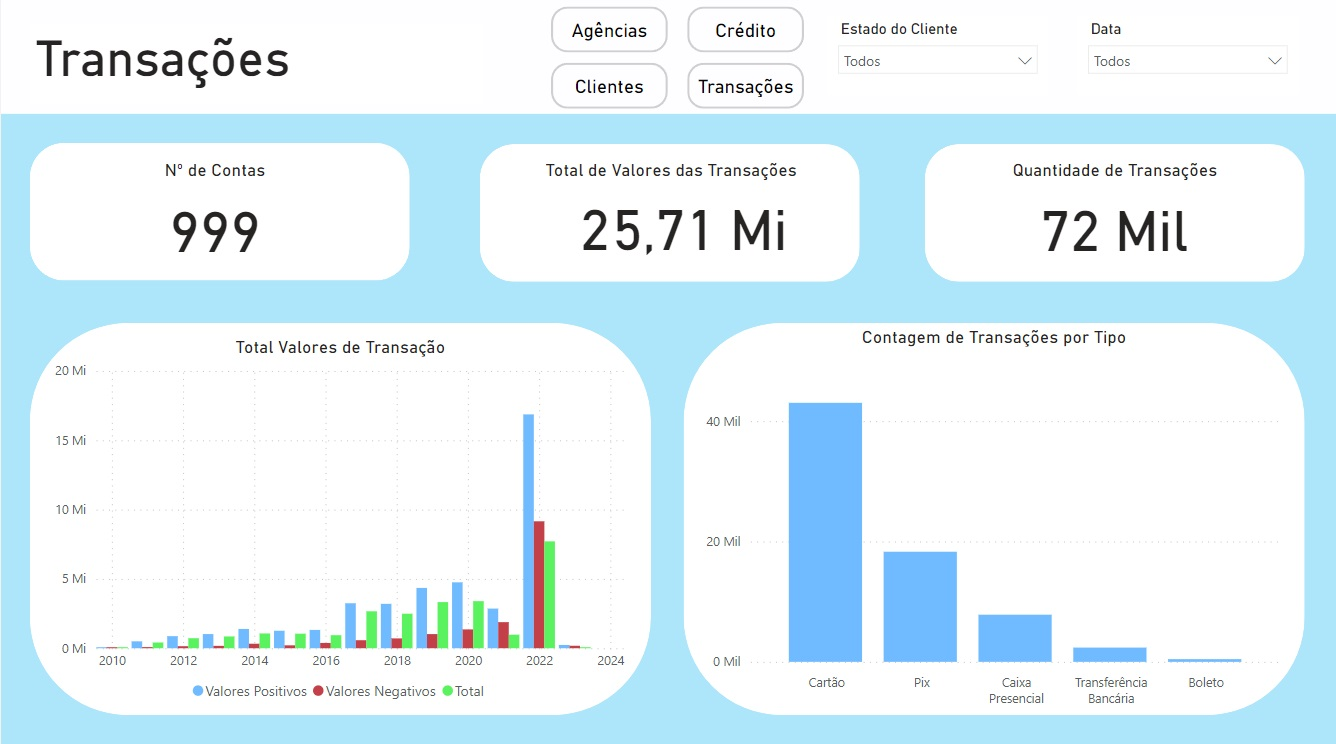

This screenshot's page, from the dashboard's own definition file:
{"tool":"powerbi","page":{"name":"Transações","canvas":[1280,720],"ordinal":2},"visuals":[{"type":"shape","box":[653.9,315,595.2,376],"z":0},{"type":"shape","box":[27.5,315,595.2,376],"z":1000},{"type":"shape","box":[885.4,144,364.2,132.1],"z":2000},{"type":"shape","box":[458.2,144,364.2,132.1],"z":3000},{"type":"shape","box":[27.4,142.8,364.2,132.1],"z":4000},{"type":"clusteredColumnChart","title":"Contagem de Transações por Tipo","fields":{"Category":["transacoes.tipo_transacao"],"Y":["transacoes_medidas.Contagem de Transasoes por tipo"]},"box":[670,318.9,561.7,372.5],"z":5000},{"type":"slicer","fields":{"Values":["transacoes.data_transacao.Variation.Hierarquia de datas.Ano","transacoes.data_transacao.Variation.Hierarquia de datas.Mês"]},"box":[1030.6,20.2,211.8,76.2],"z":6000},{"type":"clusteredColumnChart","title":"Total Valores de Transação","fields":{"Y":["transacoes_medidas.Total de valores positivos","transacoes_medidas.Total de valores negativos","transacoes_medidas.Total de valores"],"Category":["transacoes.data_transacao.Variation.Hierarquia de datas.Ano","transacoes.data_transacao.Variation.Hierarquia de datas.Trimestre","transacoes.data_transacao.Variation.Hierarquia de datas.Mês"]},"box":[46.4,328.5,557,358.2],"z":7000},{"type":"slicer","fields":{"Values":["clientes.uf"]},"box":[791.4,20.2,211.8,76.2],"z":8000},{"type":"card","fields":{"Values":["transacoes_medidas.Total"]},"box":[486.7,197.6,333.2,65.5],"z":9000},{"type":"card","fields":{"Values":["transacoes_medidas.Contagem de Transasoes por tipo"]},"box":[885.4,198.7,363,65.5],"z":10000},{"type":"textbox","box":[486.7,153.5,309.4,35.7],"z":11000},{"type":"textbox","box":[54.7,153.5,299.9,35.7],"z":12000},{"type":"textbox","box":[917.6,153.5,299.9,35.7],"z":13000},{"type":"card","fields":{"Values":["transacoes_medidas.Total de Contas"]},"box":[54.7,201.1,299.9,61.9],"z":14000},{"type":"textbox","box":[46.4,11.9,384.4,84.5],"z":15000}]}

Visuals, with their boxes in screenshot pixels (x1, y1, x2, y2), scaled from the page's 1280x720 canvas onto the 1336x744 screenshot:
shape: bbox(683, 326, 1304, 714)
shape: bbox(29, 326, 650, 714)
shape: bbox(924, 149, 1304, 285)
shape: bbox(478, 149, 858, 285)
shape: bbox(29, 148, 409, 284)
"Contagem de Transações por Tipo" clusteredColumnChart: bbox(699, 330, 1286, 714)
slicer - transacoes.data_transacao.Variation.Hierarquia de datas.Ano x transacoes.data_transacao.Variation.Hierarquia de datas.Mês: bbox(1076, 21, 1297, 100)
"Total Valores de Transação" clusteredColumnChart: bbox(48, 339, 630, 710)
slicer - clientes.uf: bbox(826, 21, 1047, 100)
card - transacoes_medidas.Total: bbox(508, 204, 856, 272)
card - transacoes_medidas.Contagem de Transasoes por tipo: bbox(924, 205, 1303, 273)
textbox: bbox(508, 159, 831, 196)
textbox: bbox(57, 159, 370, 196)
textbox: bbox(958, 159, 1271, 196)
card - transacoes_medidas.Total de Contas: bbox(57, 208, 370, 272)
textbox: bbox(48, 12, 450, 100)
